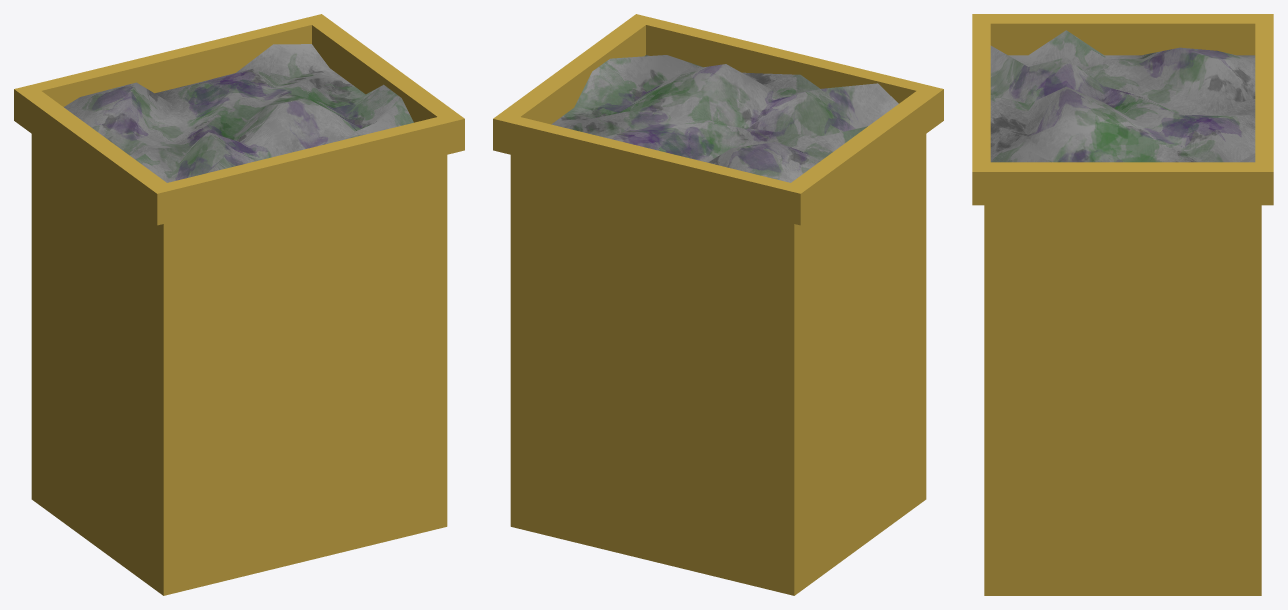
Rendered from containery.fbx.
The picture shows the model from 3 angles, left to right: view 1: azimuth 30°, elevation 25°; view 2: azimuth 150°, elevation 25°; view 3: azimuth 270°, elevation 25°; orthographic projection. The views are drawn at different scales.
Parts seen in each view (by area): view 1: containery, trashy; view 2: containery, trashy; view 3: containery, trashy.
Boxes of the visible parts, bbox=[...] form: containery: bbox=[14, 14, 464, 595]; trashy: bbox=[64, 44, 413, 182]; containery: bbox=[493, 14, 943, 595]; trashy: bbox=[551, 55, 898, 182]; containery: bbox=[972, 14, 1273, 595]; trashy: bbox=[990, 30, 1255, 162].
Bounding box in the file's own units: 10.38 × 13.69 × 8.36.
Materials: 2 (2 with a texture image).
